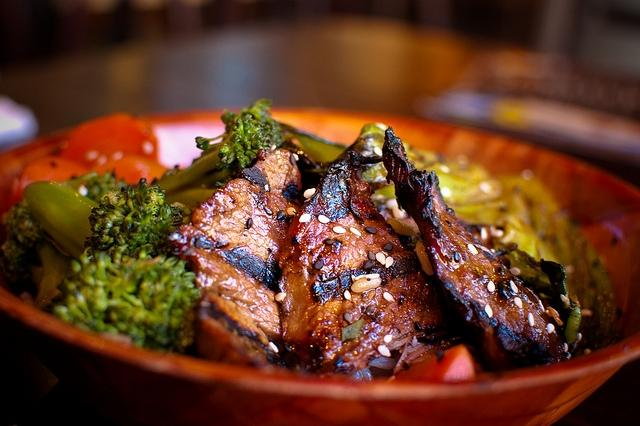broccoli: (41, 244, 202, 355), (150, 98, 282, 206), (23, 172, 176, 264), (2, 198, 66, 298), (1, 232, 44, 293), (86, 170, 132, 204)
